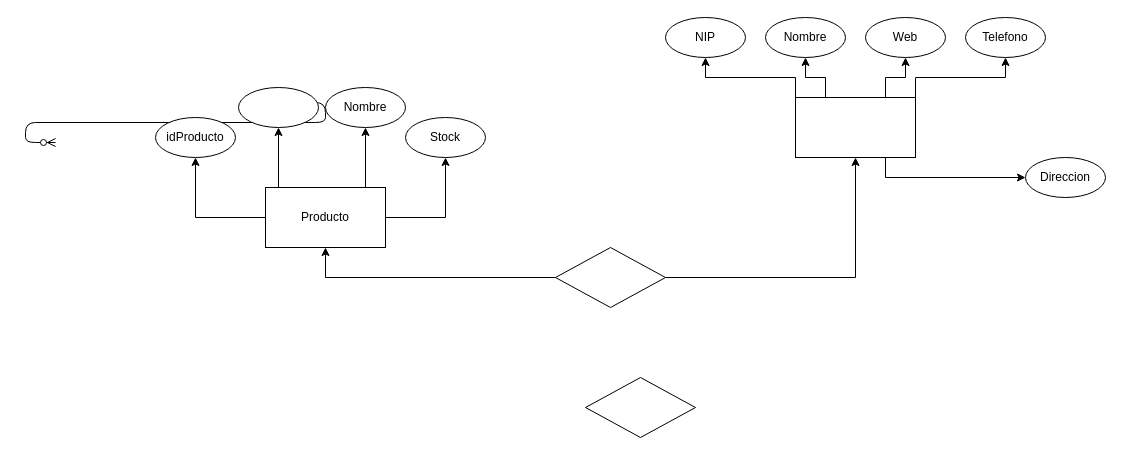
Image size: 1123x455. Some labels were removed from this diagram. Each missing label, with the centre of its shape:
"Precio" goes at (x=278, y=107).
"Proveedor" goes at (x=855, y=127).
"se clasifica" goes at (x=640, y=407).
"tiene" goes at (x=610, y=277).
